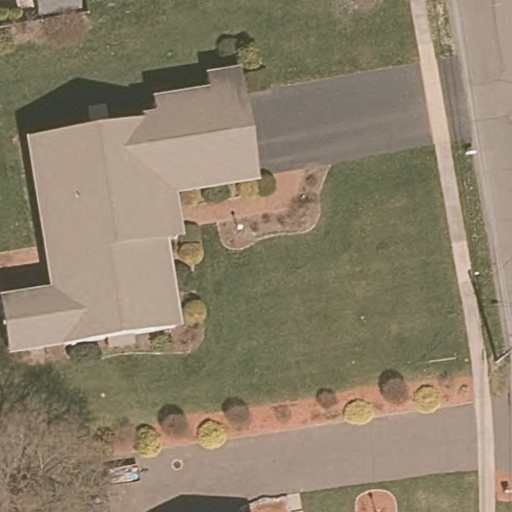DT: (493, 344, 512, 365)
